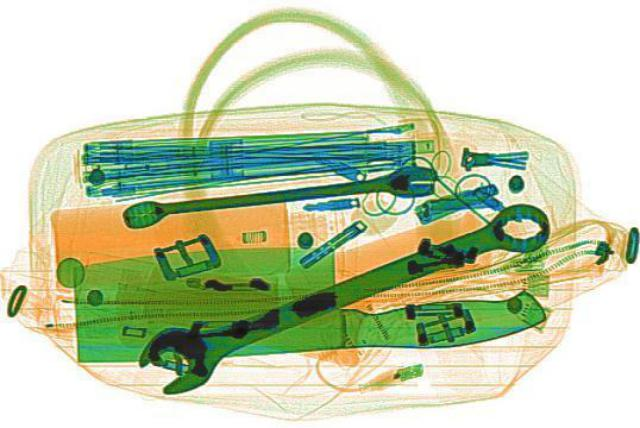Knife: (66, 237, 546, 360)
Wrench: (116, 190, 574, 395), (116, 160, 442, 228)
